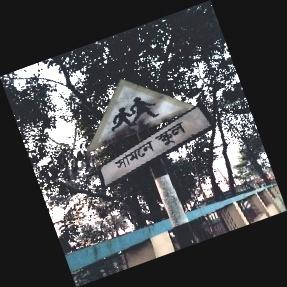School-in-front: (90, 80, 213, 188)
